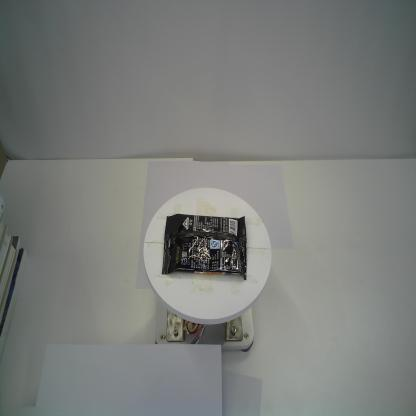Instant Drink: (162, 212, 247, 281)
